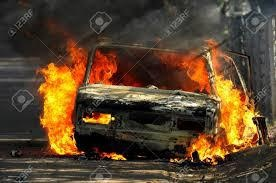fire: (35, 37, 120, 158)
